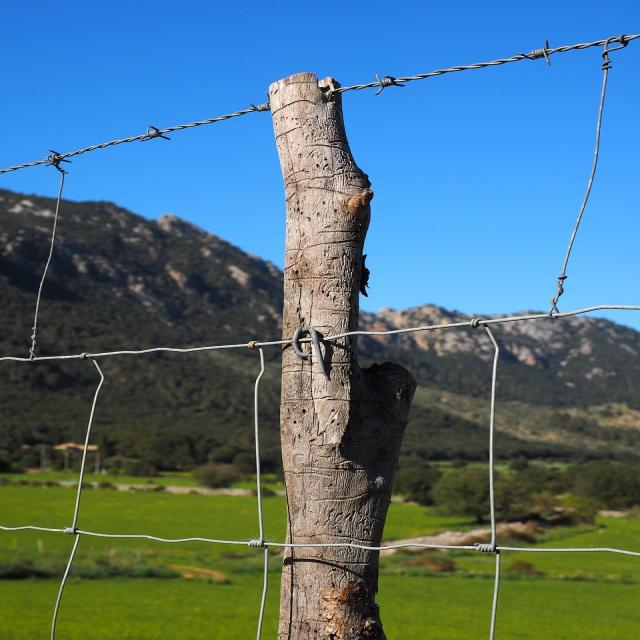fence: (0, 27, 639, 637)
